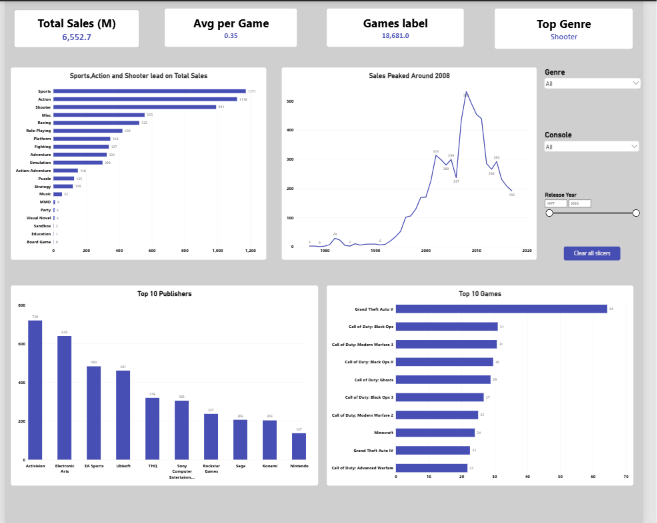

The page's visual inventory and layout, read from the dashboard file:
{"tool":"powerbi","page":{"name":"overview","canvas":[2250,1840],"ordinal":0},"visuals":[{"type":"cardVisual","fields":{"Data":["sales_analysis.Total Sales (M)"]},"box":[30,26.7,443.3,136.7],"z":0},{"type":"cardVisual","fields":{"Data":["sales_analysis.Games"]},"box":[1133.3,23.3,483.3,136.7],"z":1000},{"type":"cardVisual","fields":{"Data":["sales_analysis.Avg Sales per Game"]},"box":[563.3,23.3,466.7,136.7],"z":2000},{"type":"clusteredBarChart","title":"Sports,Action and Shooter lead on Total Sales","fields":{"Category":["sales_analysis.genre"],"Y":["sales_analysis.Total Sales"]},"box":[22,234,900,678],"z":3000},{"type":"lineChart","title":"Sales Peaked Around 2008","fields":{"Category":["sales_analysis.release_year"],"Y":["sales_analysis.Total Sales"]},"box":[976,234,898,678],"z":4000},{"type":"cardVisual","fields":{"Data":["sales_analysis.Top Genre"]},"box":[1726.7,23.3,486.7,143.3],"z":5000},{"type":"clusteredColumnChart","title":"Top 10 Publishers","fields":{"Category":["sales_analysis.publisher"],"Y":["sales_analysis.Total Sales"]},"box":[22.5,1000,1082.5,705],"z":6000},{"type":"clusteredBarChart","title":"Top 10 Games","fields":{"Category":["sales_analysis.clean_title"],"Y":["sales_analysis.Total Sales"]},"box":[1132.5,1000,1080,705],"z":7000},{"type":"slicer","fields":{"Values":["sales_analysis.genre"]},"box":[1892.5,232.5,350,185],"z":8000},{"type":"slicer","fields":{"Values":["sales_analysis.console"]},"box":[1892.5,452.5,345,192.5],"z":9000},{"type":"actionButton","box":[1967.5,862.5,200,50],"z":10000},{"type":"slicer","fields":{"Values":["sales_analysis.release_year"]},"box":[1892.5,670,345,170],"z":11000}]}

Visuals, with their boxes in screenshot pixels (x1, y1, x2, y2), scaled from the page's 2250x1840 canvas onto the 657x523 screenshot:
cardVisual - sales_analysis.Total Sales (M): (9,8,138,46)
cardVisual - sales_analysis.Games: (331,7,472,45)
cardVisual - sales_analysis.Avg Sales per Game: (164,7,301,45)
"Sports,Action and Shooter lead on Total Sales" clusteredBarChart: (6,67,269,259)
"Sales Peaked Around 2008" lineChart: (285,67,547,259)
cardVisual - sales_analysis.Top Genre: (504,7,646,47)
"Top 10 Publishers" clusteredColumnChart: (7,284,323,485)
"Top 10 Games" clusteredBarChart: (331,284,646,485)
slicer - sales_analysis.genre: (553,66,655,119)
slicer - sales_analysis.console: (553,129,653,183)
actionButton: (575,245,633,259)
slicer - sales_analysis.release_year: (553,190,653,239)
